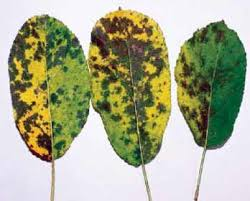Diseased_Leaves: (27, 22, 84, 90), (12, 98, 67, 154), (117, 37, 156, 115), (184, 77, 224, 125), (122, 123, 153, 159), (178, 55, 205, 76), (93, 27, 111, 54), (187, 37, 224, 43), (14, 40, 24, 56)
